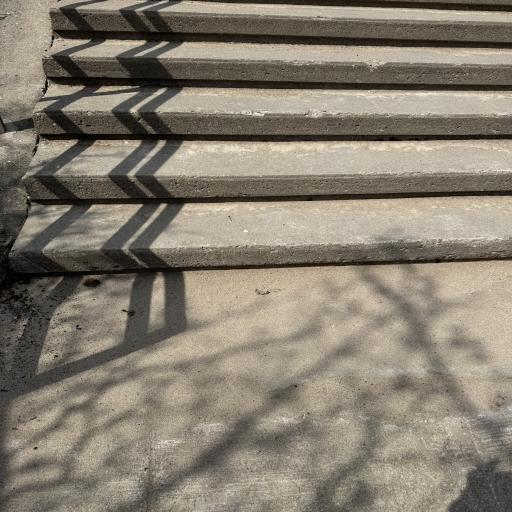Stairs: (11, 0, 512, 272), (23, 140, 512, 206), (43, 40, 512, 88)
